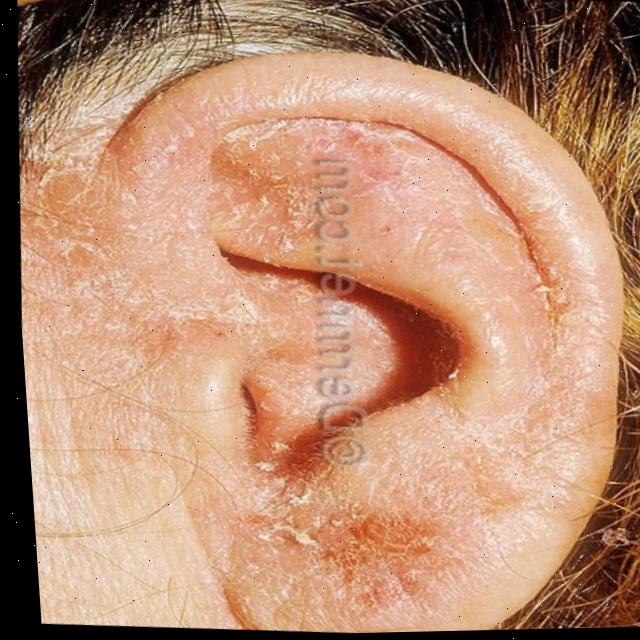Eczema: (194, 100, 422, 248), (481, 210, 579, 468), (13, 183, 150, 313), (312, 513, 493, 608)
